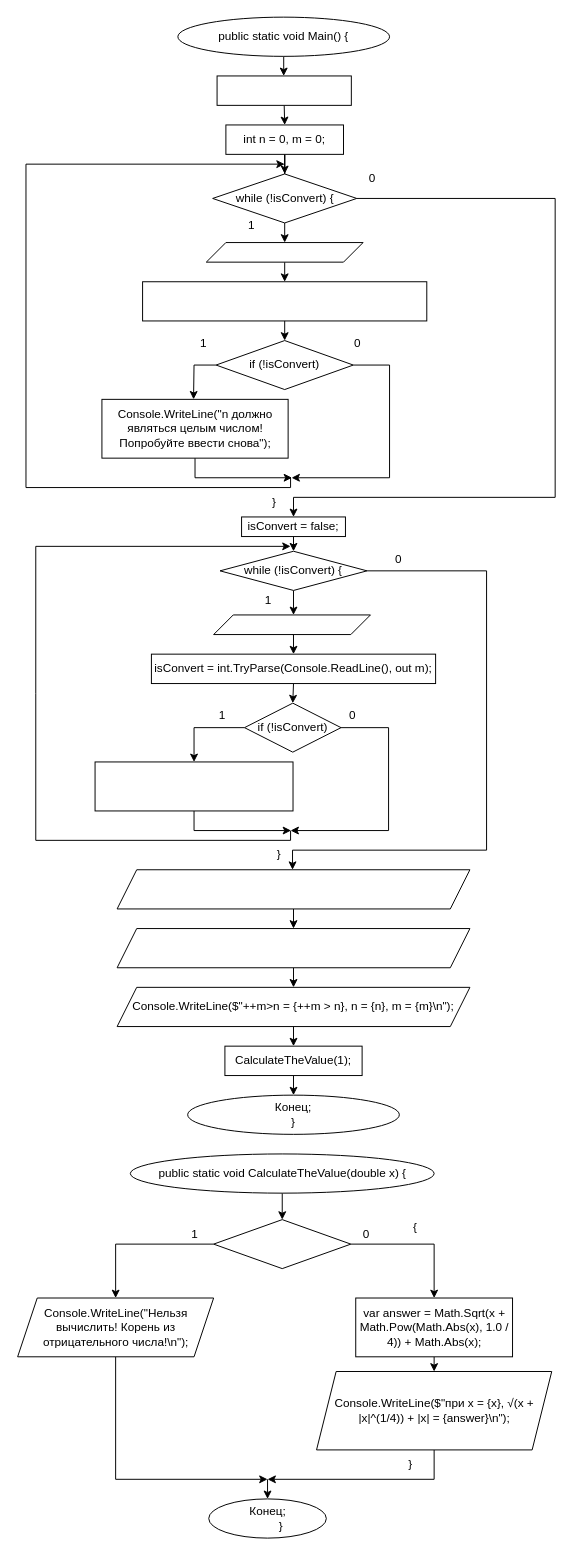
Image size: 580x1555. Some labels were removed from this diagram. The box of each missing label's shape, as (x1, y1, x2, y2) in pixels:
bool isConvert = false;: (216, 75, 351, 105)
Console.Write("m?");: (213, 614, 370, 635)
Console.Write("n?");: (205, 242, 363, 262)
Console.WriteLine("m должно являться целым числом! Попробуйте ввести снова");: (94, 761, 293, 811)
Console.WriteLine($"m--<n = {m-- < n}, n = {n}, m = {m}\n");: (116, 928, 470, 968)
Console.WriteLine($"n++*m = {n++ * m}, n = {n}, m = {m}\n");: (116, 869, 470, 909)
if (x < 0 && x != -1): (213, 1219, 351, 1269)
isConvert = int.TryParse(Console.ReadLine(), out n);: (142, 281, 427, 321)
